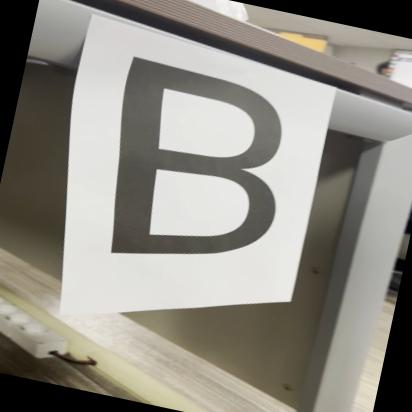seat: (60, 33, 324, 298)
